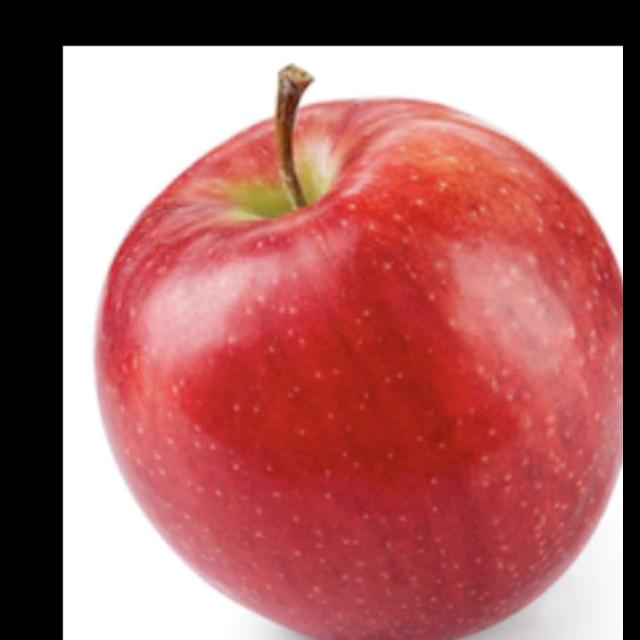Apel Segar: (89, 42, 623, 640)
